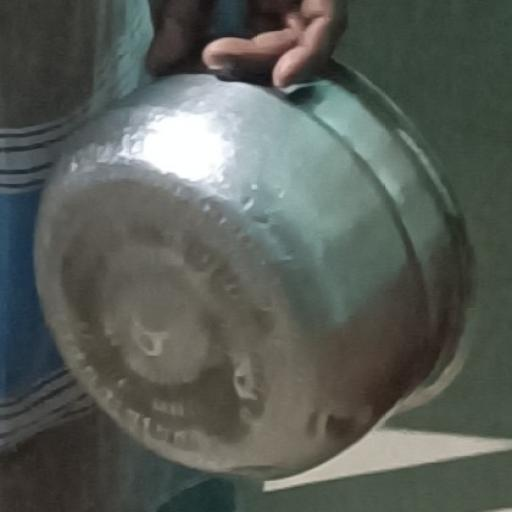vessel: (37, 62, 472, 479)
